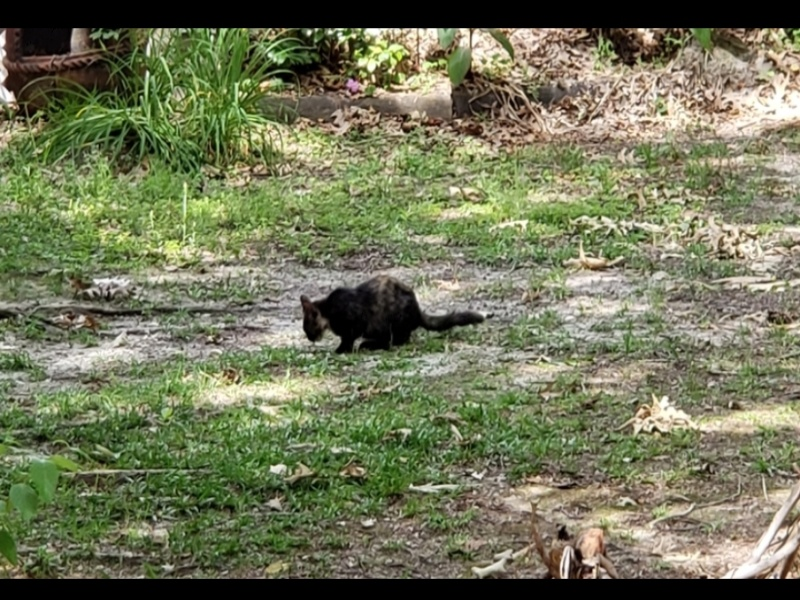cat: (296, 273, 485, 358)
